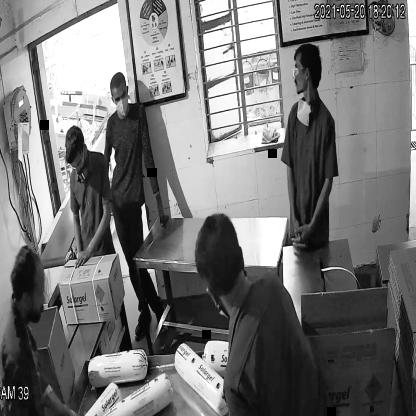goggles: (290, 62, 308, 80)
no_goggles: (109, 89, 130, 102)
